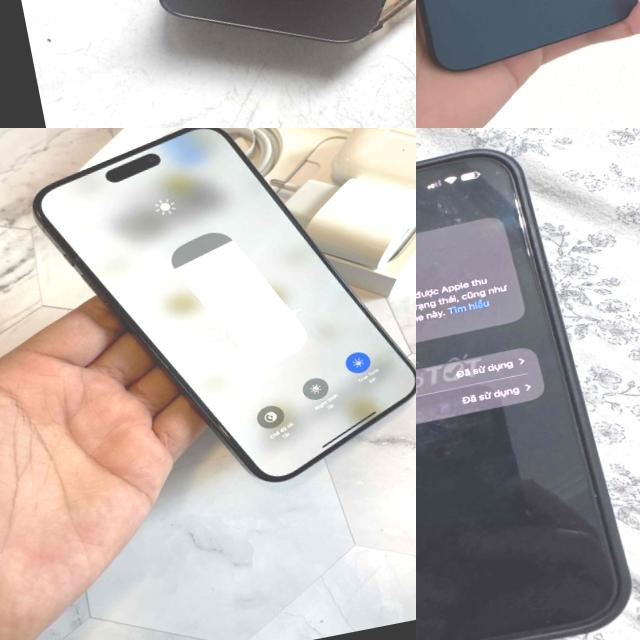gen_12_13: (102, 0, 416, 80), (416, 0, 640, 86)
gen_14: (416, 128, 640, 640)
gen_15: (0, 128, 416, 520)
